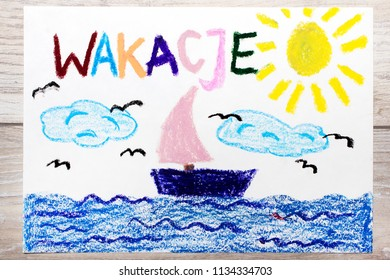boat: (150, 85, 259, 200)
cloud: (215, 108, 330, 159), (37, 96, 140, 150)
sun: (254, 7, 370, 115)
